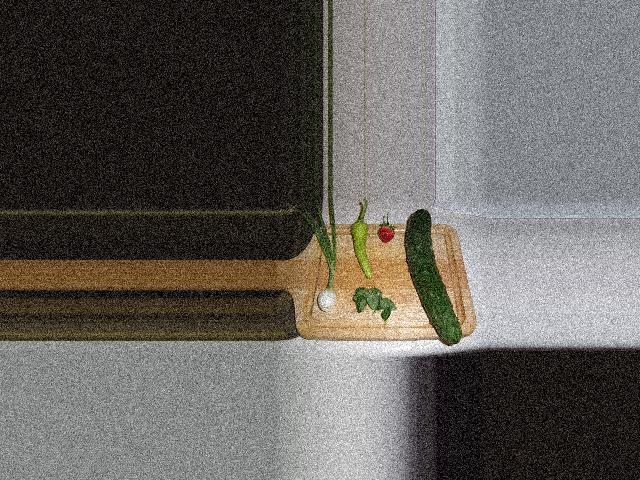cucumber: (405, 210, 462, 344)
